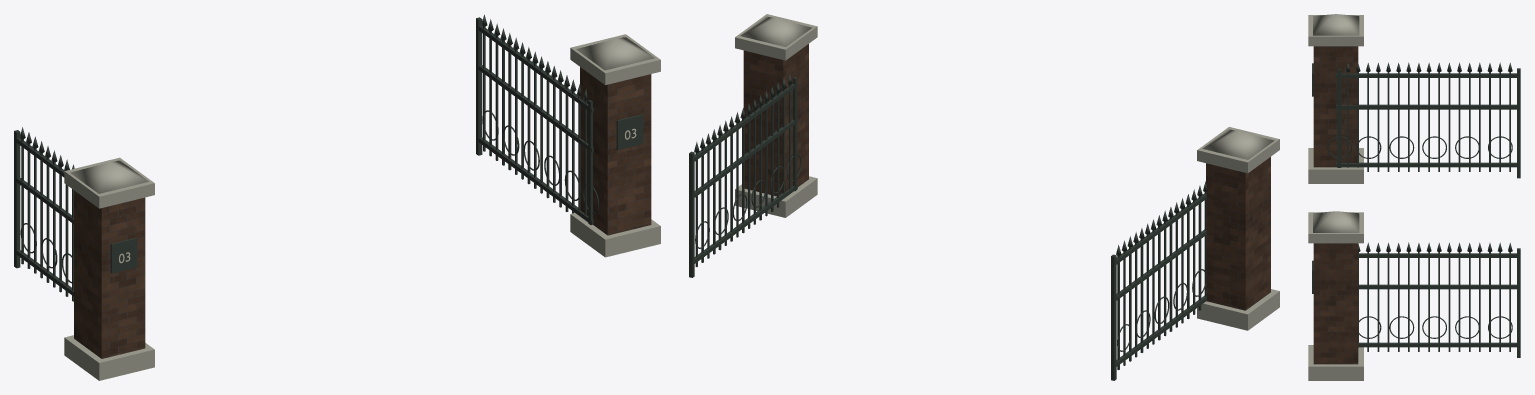
Rendered from iron-estate-gate.glb.
The picture shows the model from 3 angles, left to right: view 1: azimuth 30°, elevation 25°; view 2: azimuth 150°, elevation 25°; view 3: azimuth 270°, elevation 25°; orthographic projection. The views are drawn at different scales.
Visible parts, largest first — view 1: Weathered brick gate pier, Weathered brick gate pier.001, Pier base, Pier base.001, Pyramidal cap base, Pyramidal cap base.001, Pyramid pier cap.001, Pyramid pier cap, Gate end standard.001, Gate end standard.003, Gate longitudinal rail.003, Gate longitudinal rail.004 (+4 smaller); view 2: Weathered brick gate pier, Weathered brick gate pier.001, Pier base, Pyramidal cap base, Pyramidal cap base.001, Pier base.001, Pyramid pier cap, Pyramid pier cap.001, Gate end standard.001, Gate end standard.003, Gate longitudinal rail.004, Gate longitudinal rail.003 (+5 smaller); view 3: Weathered brick gate pier.001, Weathered brick gate pier, Pier base.001, Pier base, Gate longitudinal rail.001, Gate longitudinal rail, Pyramid pier cap, Pyramid pier cap.001, Gate longitudinal rail.003, Gate longitudinal rail.004, Pyramidal cap base, Gate longitudinal rail.002 (+13 smaller).
Boxes of the visible parts, box(x1,y1,x2,y2) form: Weathered brick gate pier: box(74, 190, 145, 358); Weathered brick gate pier.001: box(580, 67, 651, 235); Pier base: box(64, 335, 154, 380); Pier base.001: box(570, 213, 660, 257); Pyramidal cap base: box(64, 157, 154, 208); Pyramidal cap base.001: box(570, 34, 660, 85); Pyramid pier cap.001: box(576, 37, 654, 70); Pyramid pier cap: box(70, 160, 148, 193); Gate end standard.001: box(14, 130, 20, 268); Gate end standard.003: box(476, 17, 482, 155); Gate longitudinal rail.003: box(478, 137, 593, 224); Gate longitudinal rail.004: box(478, 65, 593, 152); Weathered brick gate pier: box(1206, 157, 1270, 310); Weathered brick gate pier.001: box(743, 44, 808, 196); Pier base: box(1197, 289, 1279, 330); Pyramidal cap base: box(1197, 127, 1279, 173); Pyramidal cap base.001: box(735, 14, 817, 60); Pier base.001: box(735, 176, 817, 217); Pyramid pier cap: box(1202, 129, 1274, 159); Pyramid pier cap.001: box(740, 16, 812, 46); Gate end standard.001: box(1111, 254, 1116, 380); Gate end standard.003: box(689, 151, 694, 277); Gate longitudinal rail.004: box(694, 118, 797, 197); Gate longitudinal rail.003: box(694, 184, 797, 263); Weathered brick gate pier.001: box(1313, 243, 1358, 364); Weathered brick gate pier: box(1313, 46, 1358, 167); Pier base.001: box(1308, 345, 1363, 380); Pier base: box(1308, 148, 1363, 183); Gate longitudinal rail.001: box(1336, 104, 1516, 109); Gate longitudinal rail: box(1336, 162, 1516, 167); Pyramid pier cap: box(1313, 14, 1359, 35); Pyramid pier cap.001: box(1313, 211, 1359, 232); Gate longitudinal rail.003: box(1358, 342, 1516, 347); Gate longitudinal rail.004: box(1358, 284, 1516, 289); Pyramidal cap base: box(1308, 15, 1363, 46); Gate longitudinal rail.002: box(1336, 73, 1516, 77).
Bounding box in the file's own units: 7.88 × 2.67 × 3.23.
4 materials, 1 textured.
